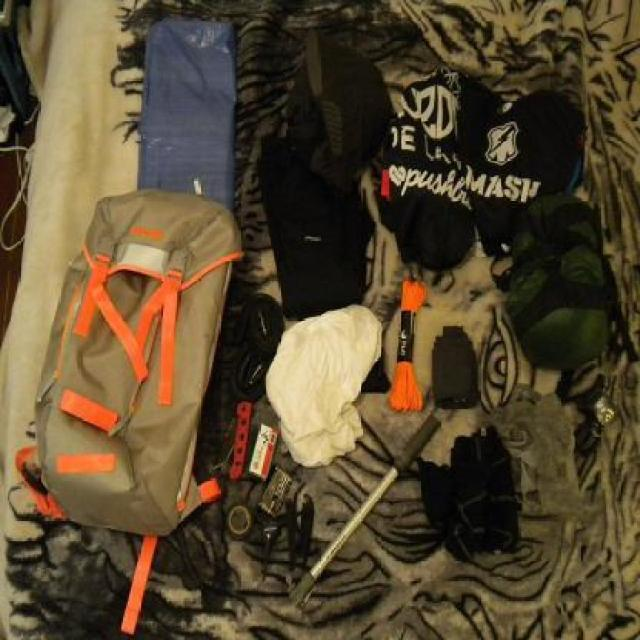backpack: (24, 184, 250, 542)
